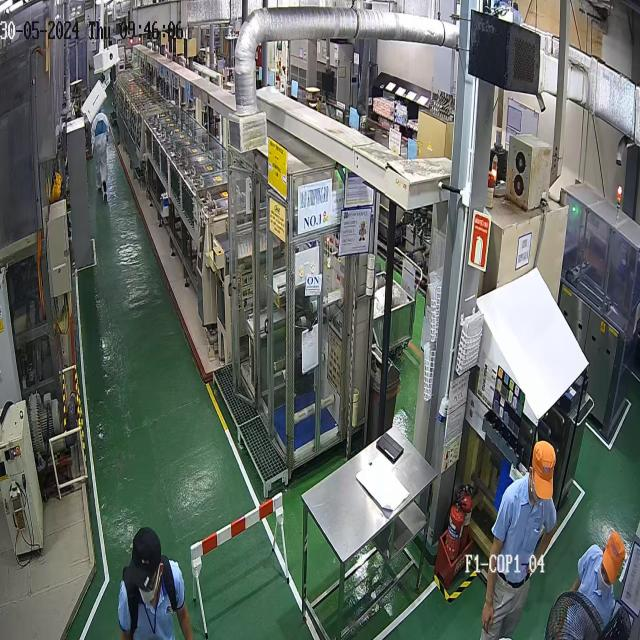Person: (479, 440, 557, 639), (117, 526, 193, 640), (563, 530, 625, 640), (90, 108, 110, 200)
